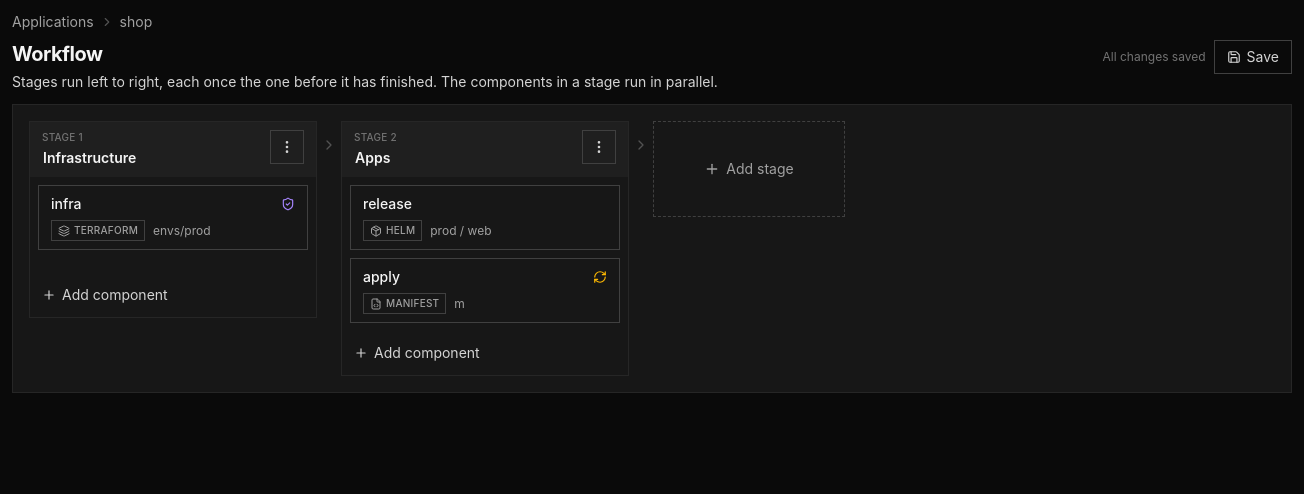
Scenario: WorkflowBuilder › each stage's Add component lists Helm, Manifest, and OpenTofu
Expected: the text "release" is shown, [363,194,412,214]
Click the button with aria-label "Add a component to Apps". click: [417, 353]
box: [350,339,484,367]
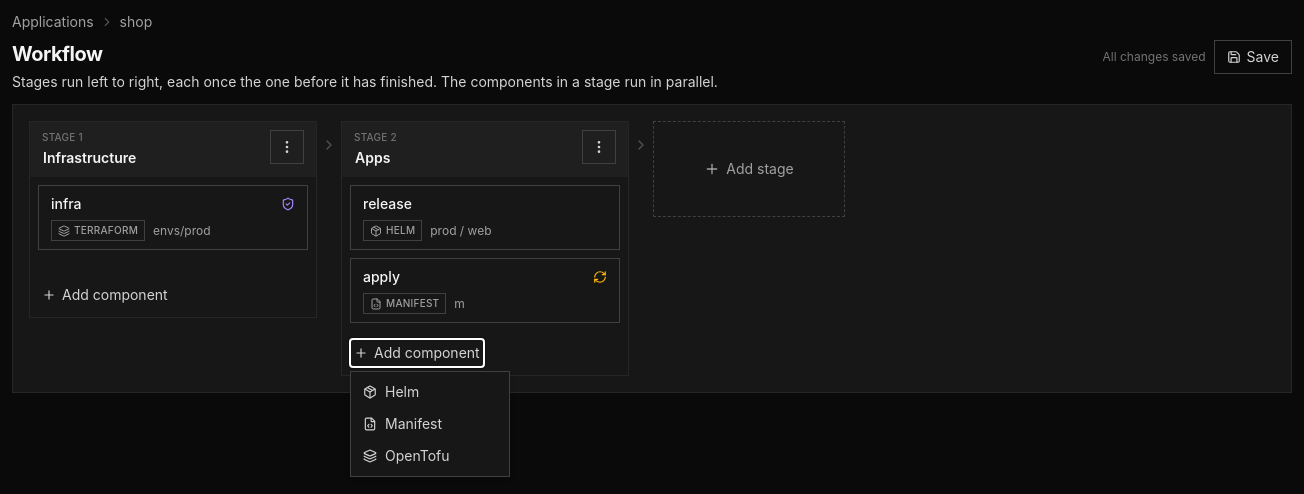
Expected: the menu item "Helm" is shown, [351,376,509,408]
Expected: the menu item "Manifest" is shown, [351,408,509,440]
Expected: the menu item "OpenTofu" is shown, [351,440,509,472]
